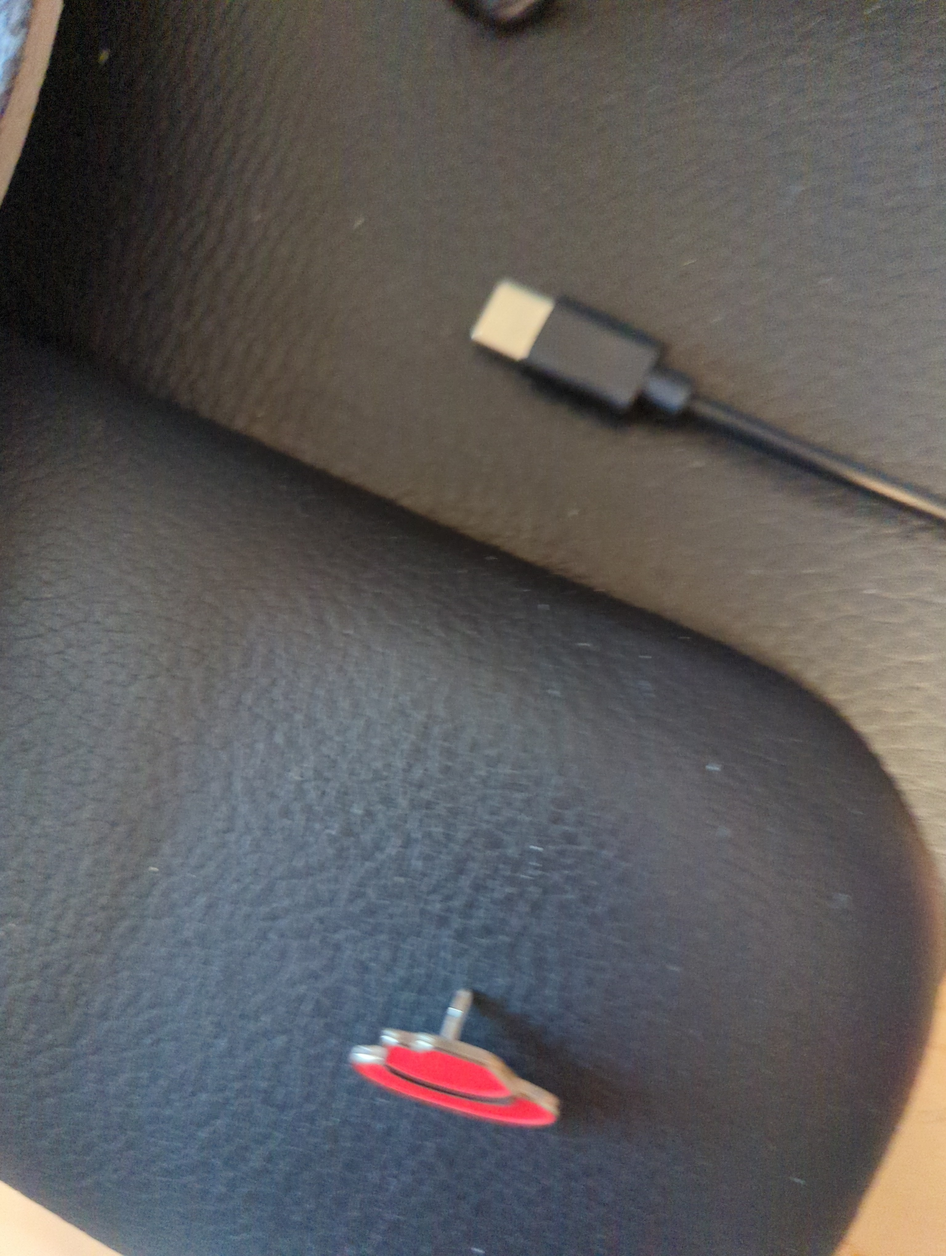Red-Hat: (293, 890, 666, 1212)
